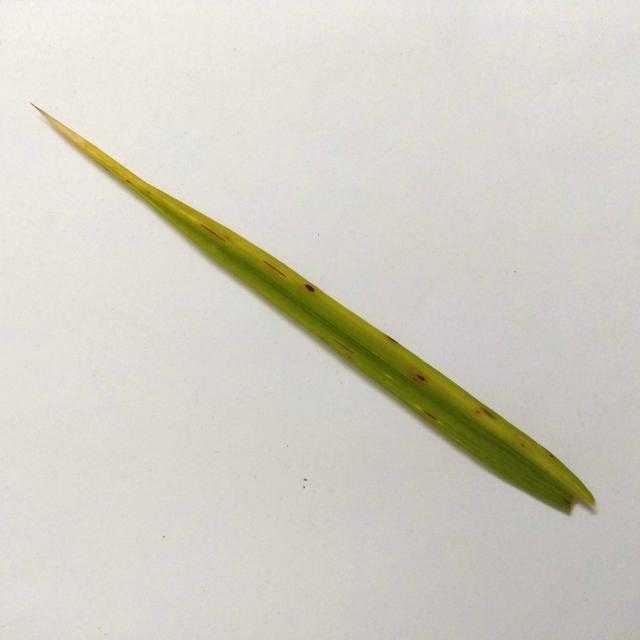brownspots: (415, 402, 451, 439), (474, 393, 505, 426), (408, 368, 438, 386), (296, 274, 320, 296)
